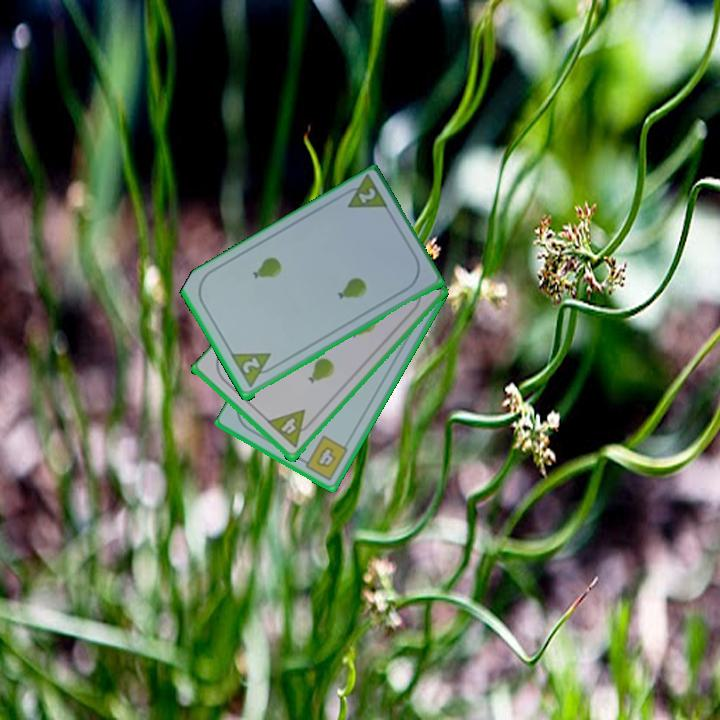2p: (238, 354, 263, 377), (354, 184, 379, 207)
4b: (297, 432, 351, 483)
4p: (264, 406, 317, 451)
